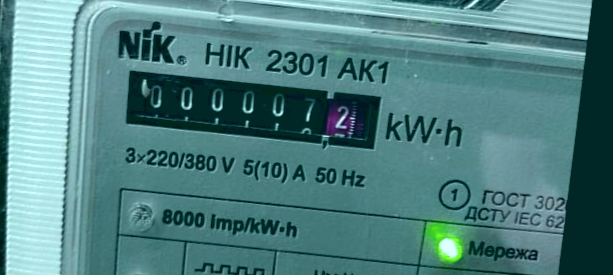0: (204, 88, 225, 117), (174, 87, 194, 117), (143, 85, 163, 114), (266, 93, 285, 123), (236, 90, 254, 119)
2: (330, 105, 349, 136)
7: (295, 98, 315, 129)
screen: (112, 59, 391, 165)
